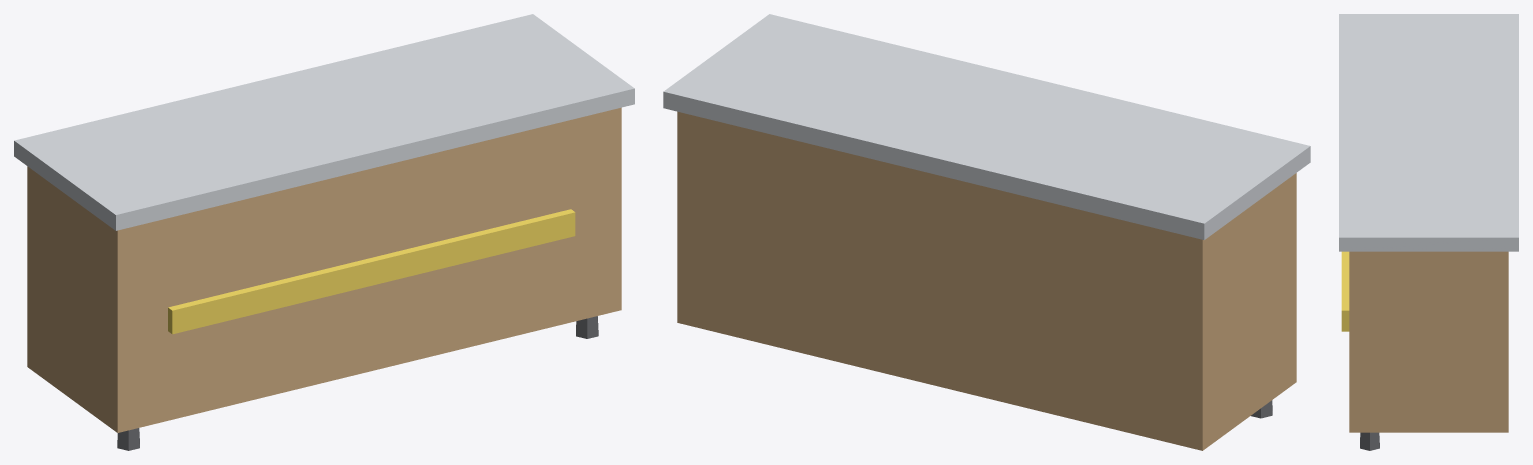
The model's file is street-food-market-and-food-trucks-stall-counter-modul-2f352fdb.glb.
3 views of the same model, side by side, from view 1: azimuth 30°, elevation 25°; view 2: azimuth 150°, elevation 25°; view 3: azimuth 270°, elevation 25° (orthographic). The views are drawn at different scales.
Parts seen in each view (by area): view 1: stall-counter-module-timber, stall-counter-module-steel, stall-counter-module-canary, stall-counter-module-charcoal; view 2: stall-counter-module-timber, stall-counter-module-steel; view 3: stall-counter-module-steel, stall-counter-module-timber, stall-counter-module-canary, stall-counter-module-charcoal.
Part boxes in pixels (bbox=[...]): stall-counter-module-timber: bbox=[27, 107, 621, 432]; stall-counter-module-steel: bbox=[14, 14, 634, 230]; stall-counter-module-canary: bbox=[168, 209, 575, 334]; stall-counter-module-charcoal: bbox=[117, 316, 598, 450]; stall-counter-module-timber: bbox=[677, 111, 1296, 450]; stall-counter-module-steel: bbox=[663, 14, 1310, 239]; stall-counter-module-steel: bbox=[1339, 14, 1518, 251]; stall-counter-module-timber: bbox=[1349, 251, 1508, 432]; stall-counter-module-canary: bbox=[1341, 251, 1349, 331]; stall-counter-module-charcoal: bbox=[1360, 432, 1379, 450].
Size of the model in its own units: 2.06 by 0.9501 by 0.6999.
